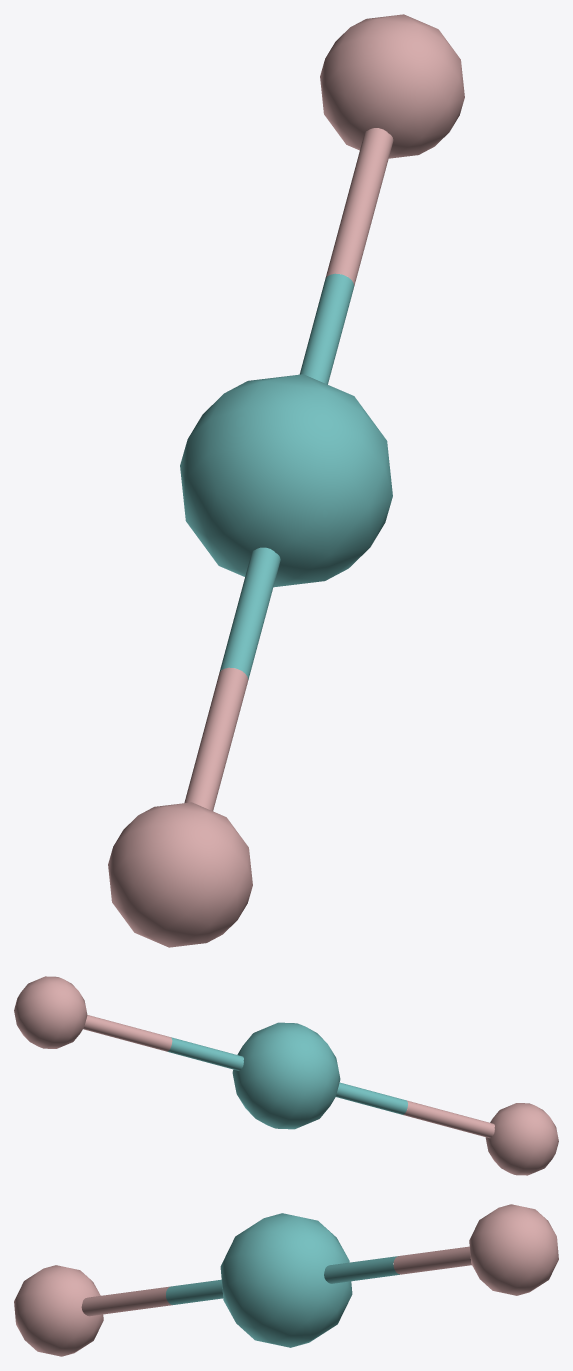
The model's file is XeF2.gltf.
The picture shows the model from 3 angles, top to bottom: view 1: azimuth 30°, elevation 25°; view 2: azimuth 150°, elevation 25°; view 3: azimuth 270°, elevation 25°; orthographic projection. The views are drawn at different scales.
Parts seen in each view (by area): view 1: vmd_mol5_rep0; view 2: vmd_mol5_rep0; view 3: vmd_mol5_rep0.
Boxes of the visible parts, x1=… form: vmd_mol5_rep0: x1=108, y1=14, x2=464, y2=947; vmd_mol5_rep0: x1=14, y1=976, x2=558, y2=1175; vmd_mol5_rep0: x1=14, y1=1204, x2=558, y2=1356.
Bounding box in the file's own units: 1.63 × 1.13 × 1.76.
